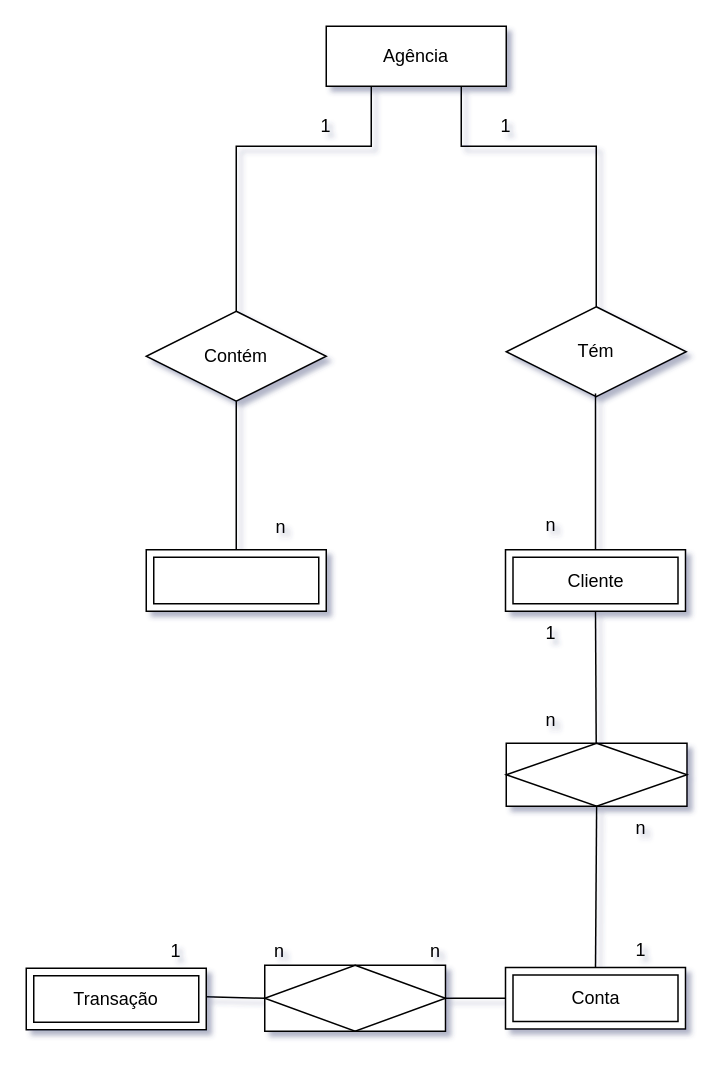
Image size: 723x1067. Some labels were removed from this diagram. Here are the shapes that lost their labels. From the top down, the centre of each, then its label:
the point at 235,579: Funcionário
the point at 596,774: Possui
the point at 354,997: Realiza
